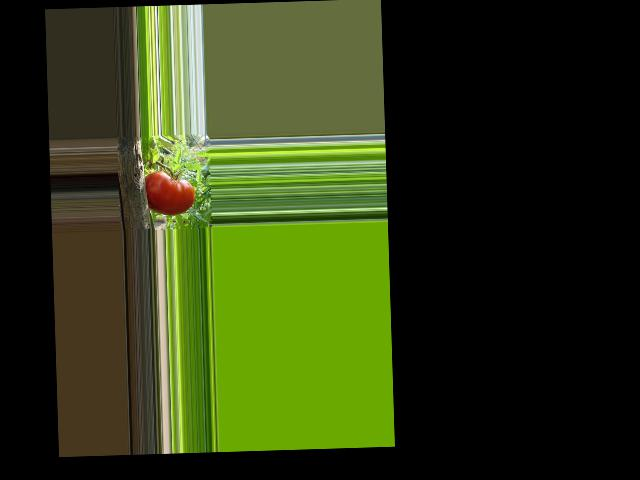tomato: (144, 169, 196, 215)
